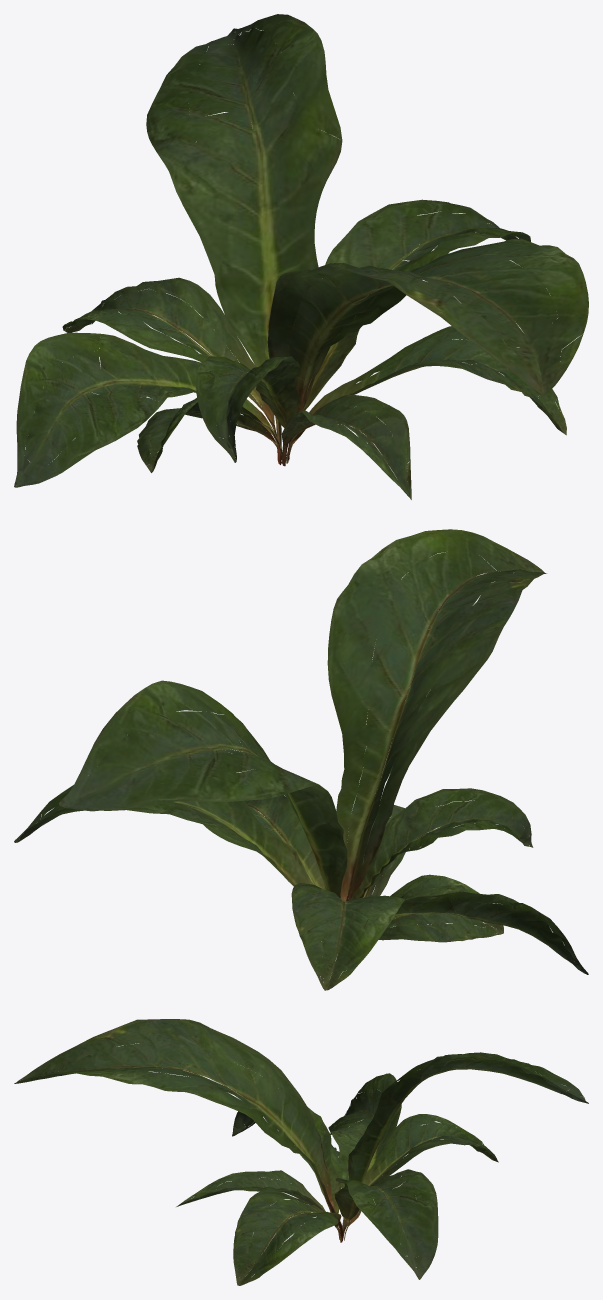
File: anthurium_botany_01_b.gltf.lod.glb
3 views of the same model, one above another, from view 1: azimuth 30°, elevation 25°; view 2: azimuth 150°, elevation 25°; view 3: azimuth 270°, elevation 25° (orthographic). The views are drawn at different scales.
Parts seen in each view (by area): view 1: anthurium_botany_01_a; view 2: anthurium_botany_01_a; view 3: anthurium_botany_01_a.
Part boxes in pixels (x1=…): anthurium_botany_01_a: x1=14, y1=14, x2=588, y2=499; anthurium_botany_01_a: x1=14, y1=529, x2=588, y2=990; anthurium_botany_01_a: x1=14, y1=1019, x2=588, y2=1285.
Size of the model in its own units: 0.8964 by 0.4996 by 1.14.
1 material, 1 textured.
